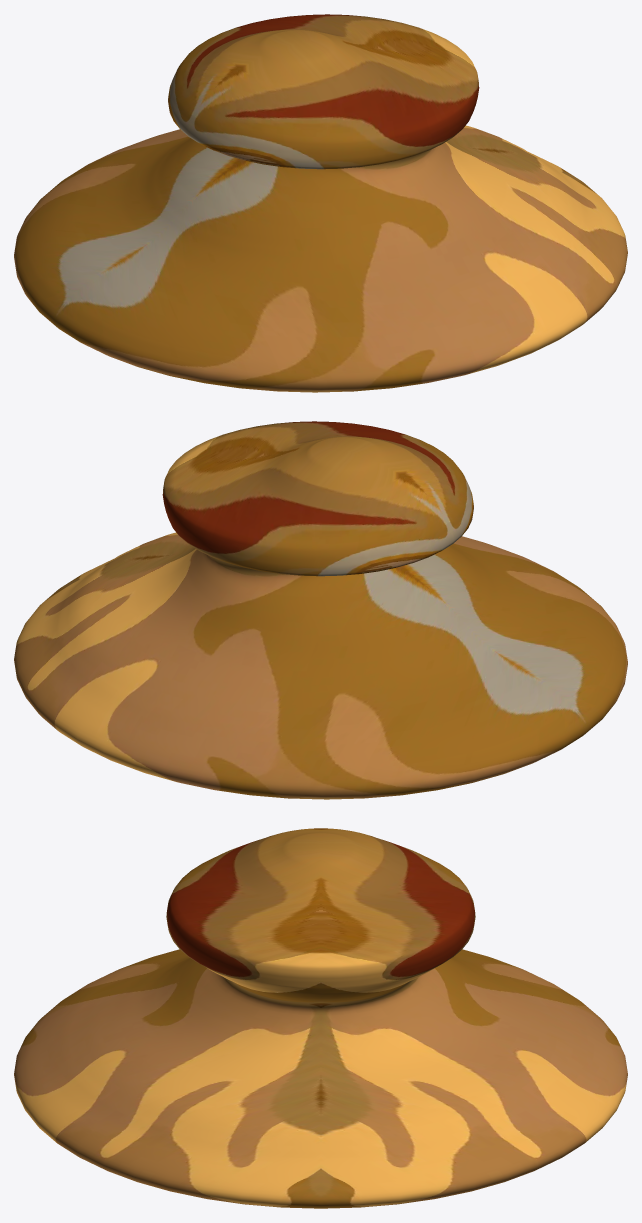
The model's file is golden_vent.glb.
3 renders of one model, top to bottom at view 1: azimuth 30°, elevation 25°; view 2: azimuth 150°, elevation 25°; view 3: azimuth 270°, elevation 25°, orthographic.
Parts seen in each view (by area): view 1: golden_vent; view 2: golden_vent; view 3: golden_vent.
Part boxes in pixels (<box>): golden_vent: <box>14,14,627,392</box>; golden_vent: <box>14,421,627,799</box>; golden_vent: <box>14,828,627,1208</box>.
Size of the model in its own units: 0.9929 by 0.4614 by 0.9922.
Materials: 1 (1 with a texture image).
